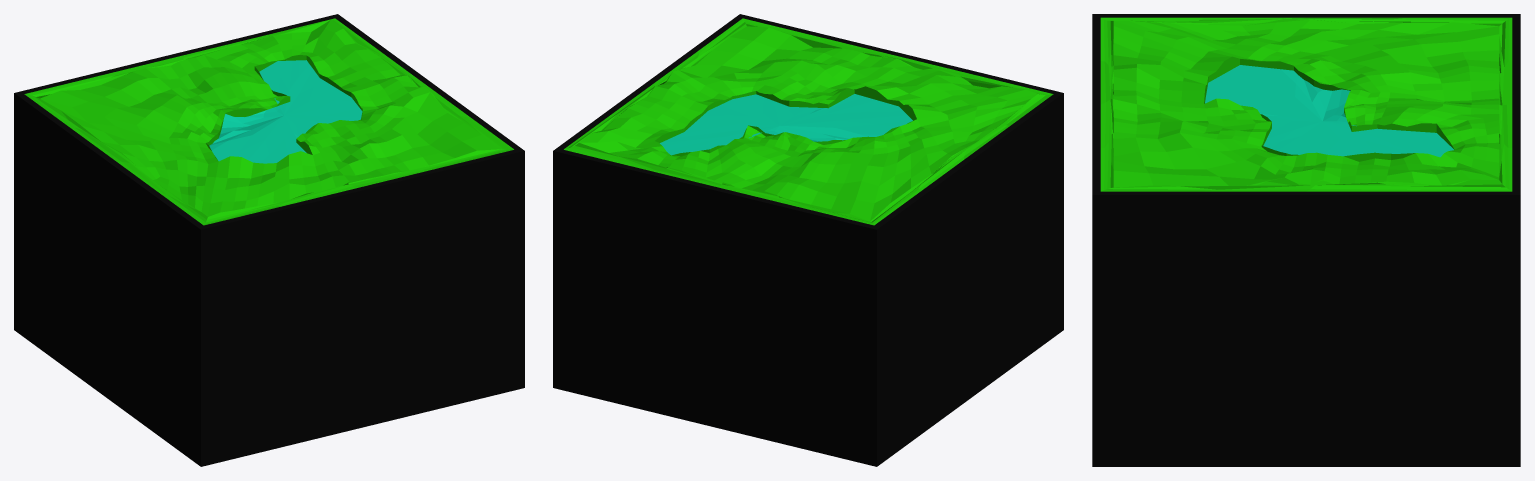
The model's file is pond.obj.
3 renders of one model, left to right at view 1: azimuth 30°, elevation 25°; view 2: azimuth 150°, elevation 25°; view 3: azimuth 270°, elevation 25°, orthographic. The views are drawn at different scales.
Parts seen in each view (by area): view 1: Cube; view 2: Cube; view 3: Cube.
Boxes of the visible parts, left/top/right/bottom form: Cube: left=14, top=14, right=524, bottom=466; Cube: left=553, top=14, right=1063, bottom=466; Cube: left=1092, top=14, right=1520, bottom=466.
Bounding box in the file's own units: 2.08 × 1.5 × 2.08.
